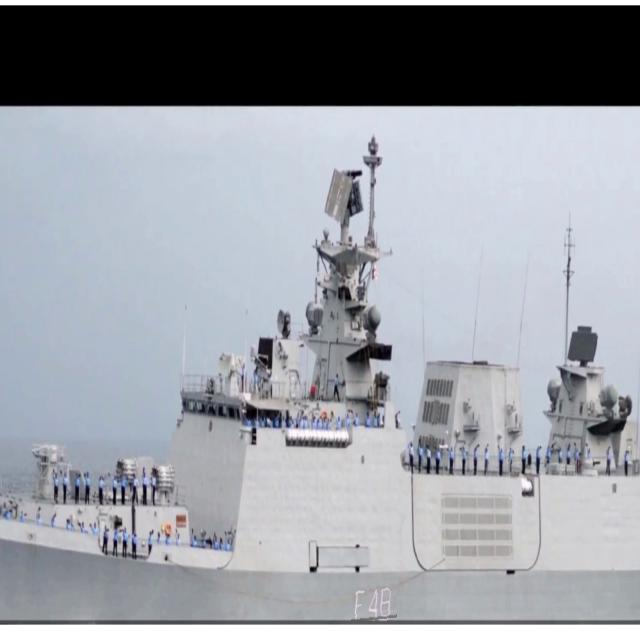OCR: (344, 586, 397, 623)
